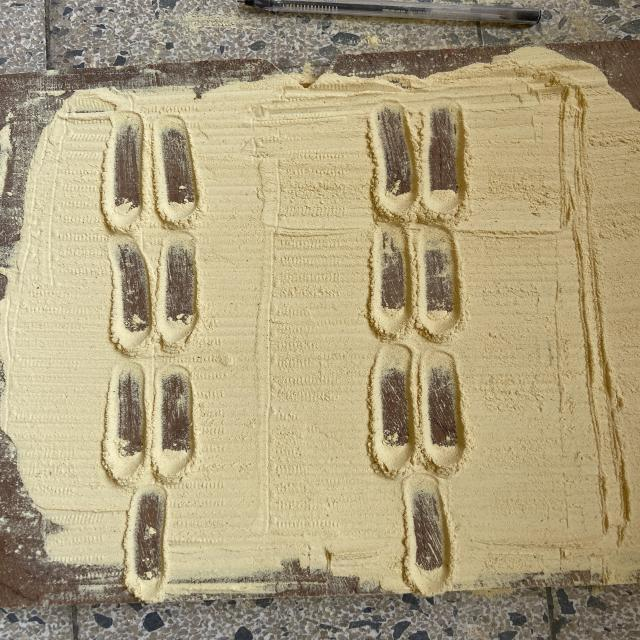double: (364, 346, 470, 474), (98, 109, 204, 231), (102, 234, 206, 356), (366, 99, 469, 221), (364, 222, 466, 342), (100, 362, 202, 482)
single: (399, 474, 453, 594), (122, 486, 174, 601)
